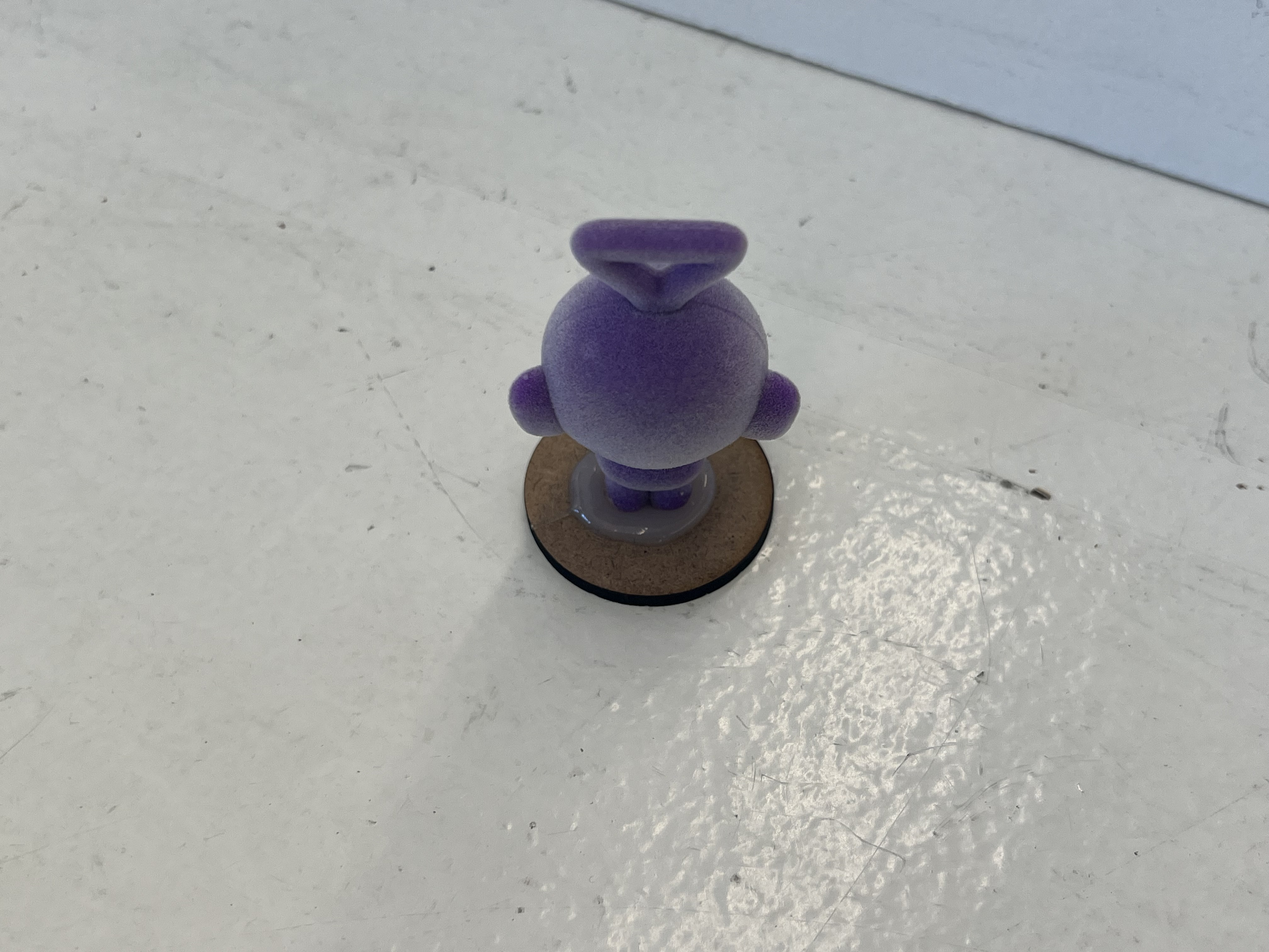teletubby: (509, 218, 799, 510)
